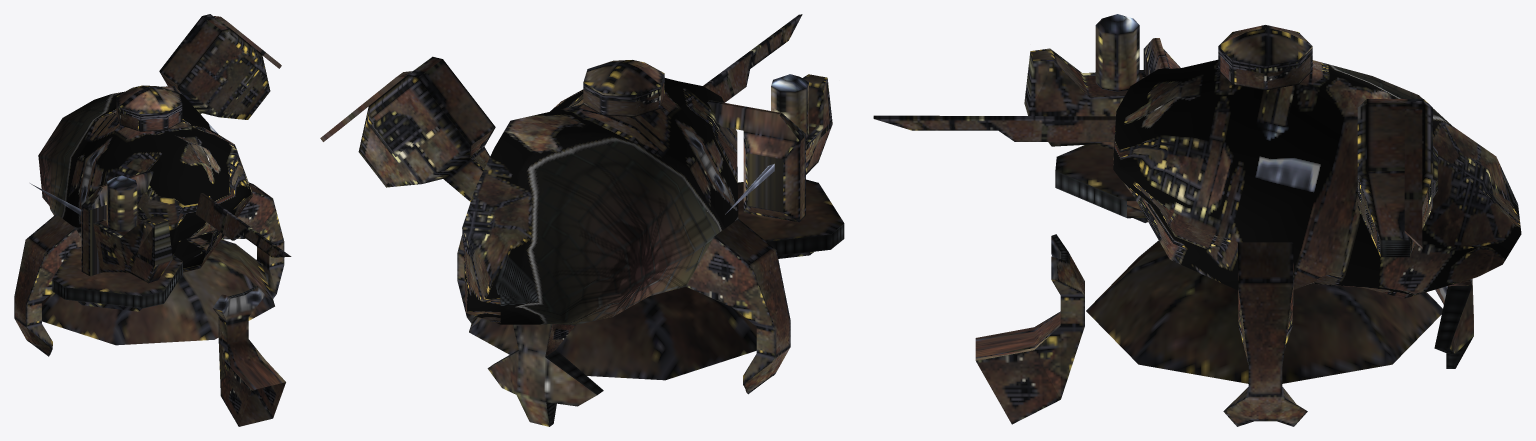
3 views of the same model, side by side, from view 1: azimuth 30°, elevation 25°; view 2: azimuth 150°, elevation 25°; view 3: azimuth 270°, elevation 25° (orthographic). The views are drawn at different scales.
Visible parts, largest first — view 1: frm-sphere6, frm-sphere7, frm-cube34, frm-cube37, frm-cube12, frm-cube11, frm-cube33, frm-sphere8, frm-cube36, frm-cube15, frm-extru48, frm-cyl1 (+1 smaller); view 2: frm-sphere6, frm-sphere7, frm-cube34, frm-cube12, frm-cube15, frm-cube14, frm-cube11, frm-sphere8, frm-extru48, frm-cube33, frm-cyl1, frm-extru50 (+1 smaller); view 3: frm-sphere6, frm-sphere7, frm-cube37, frm-cube36, frm-cube34, frm-sphere8, frm-cube33, frm-extru48, frm-cube11, frm-cyl1, frm-cube14, frm-cube12_1 (+1 smaller).
Boxes of the visible parts, x1,y1,x2,y2 form: frm-sphere6: (38, 86, 253, 272); frm-sphere7: (42, 239, 274, 345); frm-cube34: (159, 14, 270, 119); frm-cube37: (212, 286, 285, 426); frm-cube12: (14, 214, 81, 356); frm-cube11: (52, 247, 182, 311); frm-cube33: (93, 214, 172, 283); frm-sphere8: (116, 85, 182, 131); frm-cube36: (211, 182, 284, 298); frm-cube15: (81, 170, 153, 276); frm-extru48: (195, 193, 291, 257); frm-cyl1: (106, 175, 137, 231); frm-sphere6: (462, 78, 738, 324); frm-sphere7: (469, 286, 756, 380); frm-cube34: (358, 56, 495, 201); frm-cube12: (686, 219, 790, 394); frm-cube15: (707, 100, 805, 222); frm-cube14: (487, 324, 603, 426); frm-cube11: (737, 179, 844, 258); frm-sphere8: (583, 60, 664, 116); frm-extru48: (703, 14, 802, 102); frm-cube33: (802, 74, 832, 174); frm-cyl1: (771, 74, 808, 139); frm-extru50: (371, 114, 420, 156); frm-sphere6: (1113, 59, 1521, 298); frm-sphere7: (1086, 240, 1442, 383); frm-cube37: (975, 234, 1084, 424); frm-cube36: (1223, 242, 1307, 426); frm-cube34: (1357, 99, 1432, 257); frm-sphere8: (1218, 25, 1312, 90); frm-cube33: (1024, 48, 1146, 149); frm-extru48: (873, 115, 1115, 141); frm-cube11: (1055, 144, 1147, 222); frm-cyl1: (1095, 14, 1139, 91); frm-cube14: (1434, 278, 1473, 368); frm-cube12_1: (1404, 109, 1422, 248).
Size of the model in its own units: 40.97 by 33.38 by 51.81.
